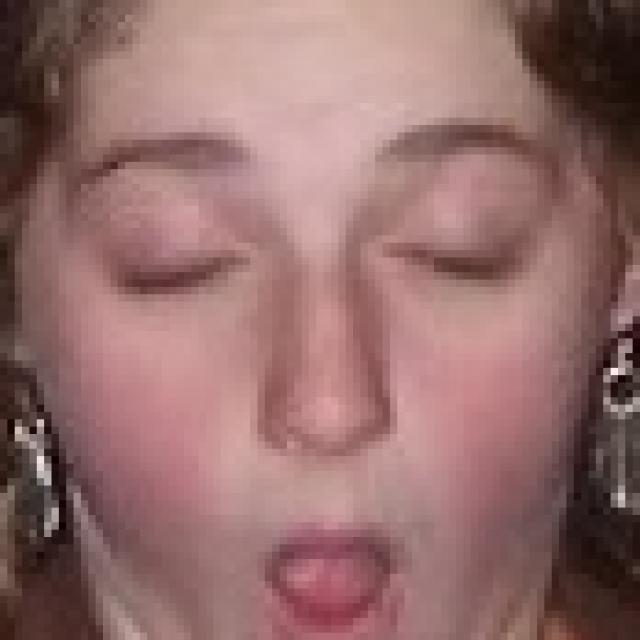close: (358, 107, 574, 298), (57, 117, 265, 309)
